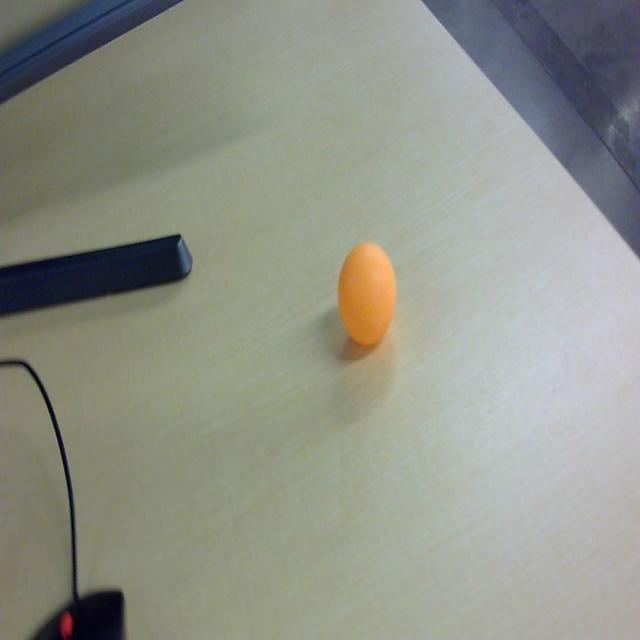ball: (336, 244, 397, 345)
